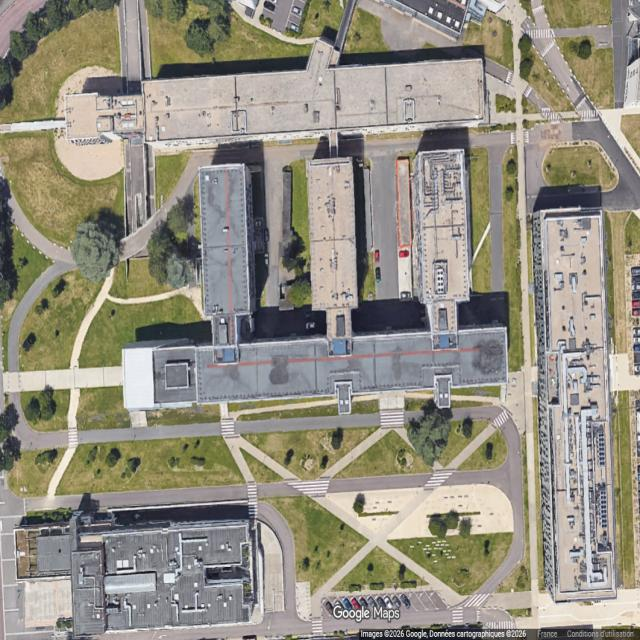immeuble: (530, 208, 618, 604), (140, 58, 486, 148), (152, 328, 509, 404), (69, 522, 258, 636), (198, 164, 257, 316), (410, 150, 469, 302), (307, 158, 357, 310)
